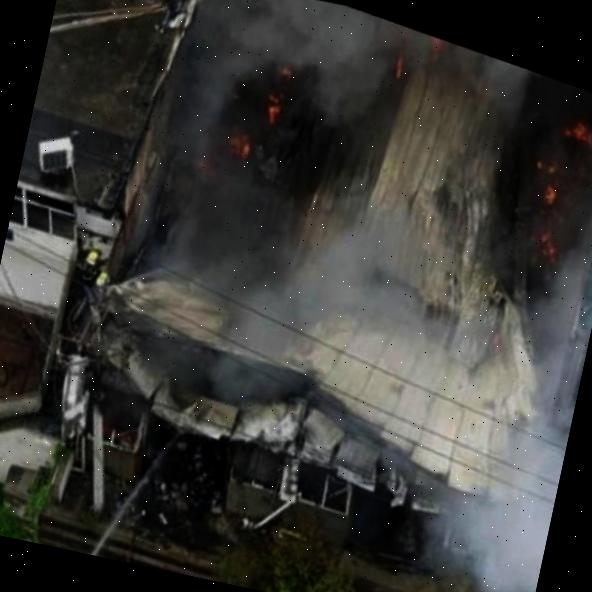fire: (531, 219, 568, 262), (252, 89, 288, 129), (560, 110, 592, 154), (220, 123, 258, 156), (535, 177, 561, 205)
smoke: (130, 154, 429, 403), (423, 394, 573, 592), (285, 0, 397, 131), (194, 0, 317, 60)
